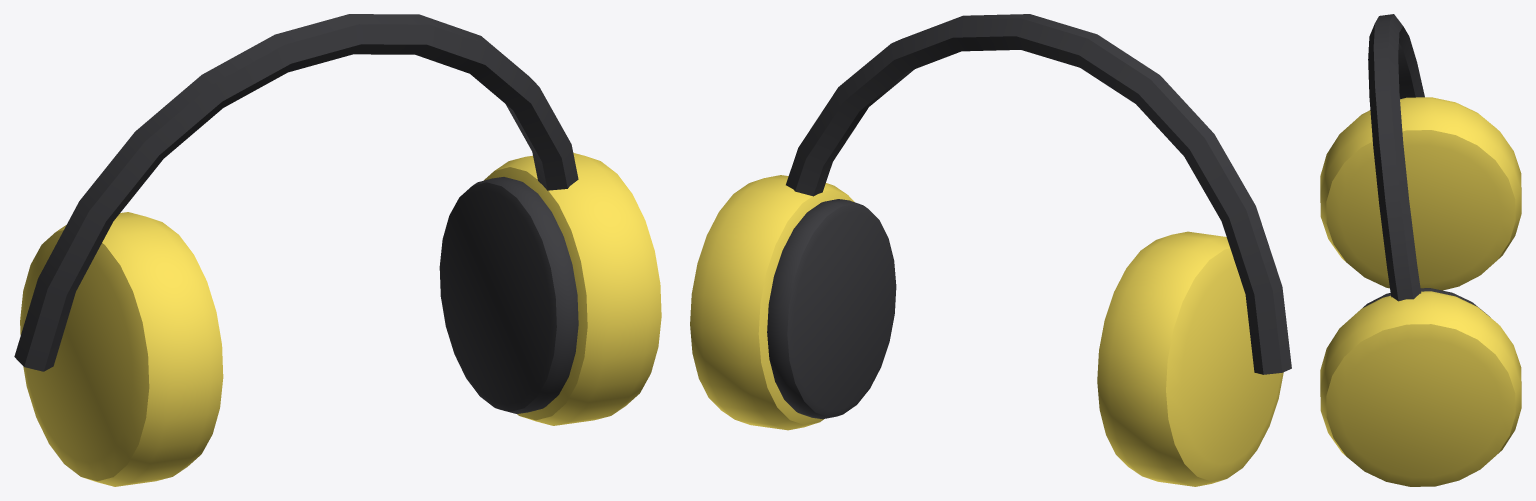
File: SER-EPI-005_anim.glb
3 renders of one model, left to right at view 1: azimuth 30°, elevation 25°; view 2: azimuth 150°, elevation 25°; view 3: azimuth 270°, elevation 25°, orthographic. The views are drawn at different scales.
Parts seen in each view (by area): view 1: SER-EPI-005_anim0; view 2: SER-EPI-005_anim0; view 3: SER-EPI-005_anim0.
Boxes of the visible parts, x1,y1,x2,y2 form: SER-EPI-005_anim0: (14,14,661,486); SER-EPI-005_anim0: (690,14,1291,486); SER-EPI-005_anim0: (1320,14,1521,486).
Bounding box in the file's own units: 0.2023 × 0.1532 × 0.0795.
